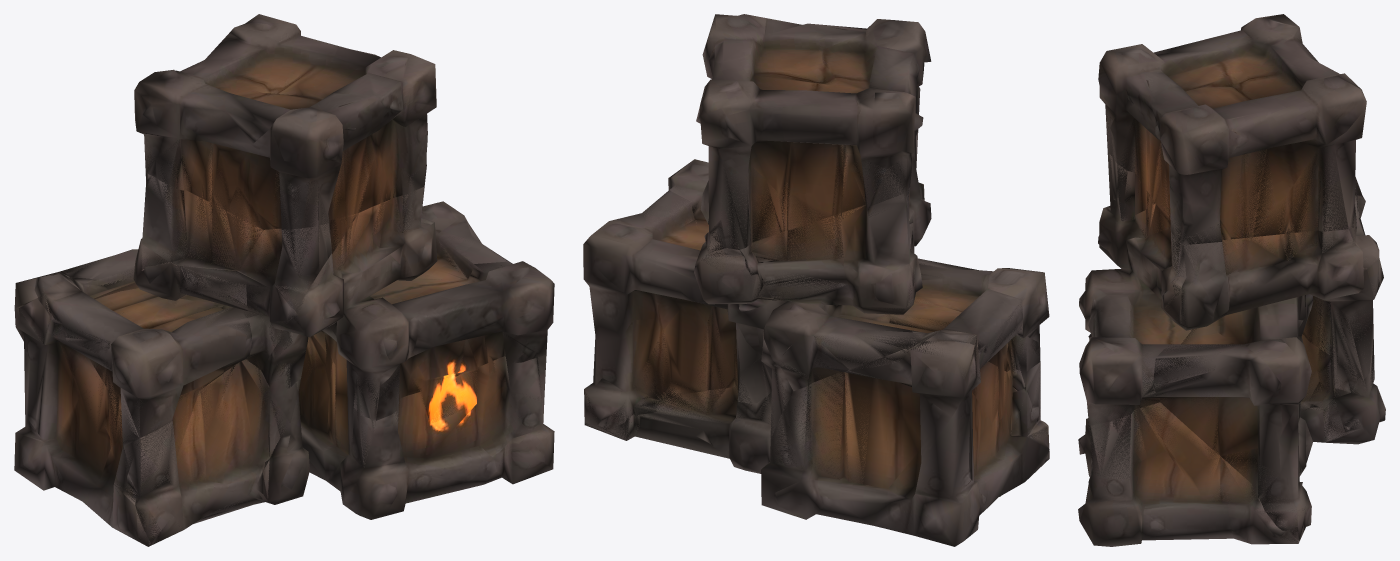
The model's file is fg_crates-DrhT9aK8.glb.
3 renders of one model, left to right at view 1: azimuth 30°, elevation 25°; view 2: azimuth 150°, elevation 25°; view 3: azimuth 270°, elevation 25°, orthographic. The views are drawn at different scales.
Parts seen in each view (by area): view 1: frag_8, whole, frag_6, frag_3, frag_5, frag_7, frag_1, frag_0, frag_4, frag_2; view 2: frag_8, frag_7, frag_2, whole, frag_0, frag_5, frag_3, frag_6, frag_4, frag_1; view 3: frag_8, frag_2, whole, frag_3, frag_6, frag_7, frag_1, frag_4, frag_0.
Part boxes in pixels (left/top/right/bottom): frag_8: left=134, top=14, right=436, bottom=229; whole: left=20, top=136, right=547, bottom=545; frag_6: left=261, top=186, right=554, bottom=420; frag_3: left=262, top=336, right=554, bottom=519; frag_5: left=34, top=262, right=251, bottom=437; frag_7: left=14, top=271, right=153, bottom=546; frag_1: left=121, top=359, right=272, bottom=544; frag_0: left=67, top=173, right=262, bottom=306; frag_4: left=217, top=213, right=358, bottom=370; frag_2: left=414, top=201, right=507, bottom=279; frag_8: left=696, top=14, right=931, bottom=249; frag_7: left=761, top=341, right=1049, bottom=546; frag_2: left=583, top=180, right=793, bottom=438; whole: left=584, top=88, right=1049, bottom=483; frag_0: left=739, top=188, right=917, bottom=391; frag_5: left=889, top=231, right=1049, bottom=371; frag_3: left=584, top=386, right=771, bottom=473; frag_6: left=668, top=159, right=924, bottom=224; frag_4: left=909, top=131, right=931, bottom=247; frag_1: left=1007, top=362, right=1048, bottom=427; frag_8: left=1098, top=14, right=1366, bottom=244; frag_2: left=1153, top=226, right=1380, bottom=540; whole: left=1087, top=89, right=1379, bottom=543; frag_3: left=1078, top=402, right=1349, bottom=546; frag_6: left=1079, top=197, right=1191, bottom=425; frag_7: left=1309, top=177, right=1385, bottom=444; frag_1: left=1301, top=334, right=1330, bottom=403; frag_4: left=1106, top=153, right=1155, bottom=214; frag_0: left=1355, top=198, right=1383, bottom=285.
Size of the model in its own units: 2.28 by 2.1 by 1.5.
1 material, 1 textured.
